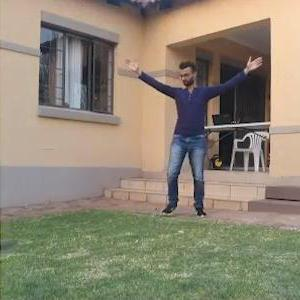takeoff: (126, 55, 266, 210)
